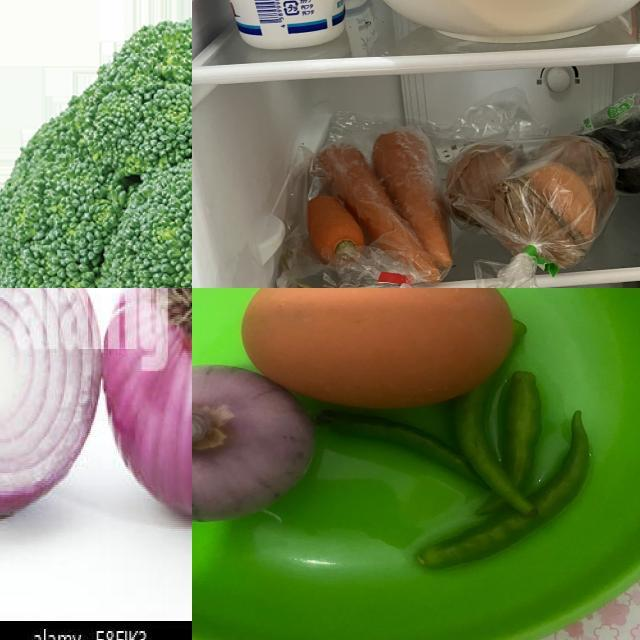carrot: (318, 141, 445, 284), (370, 129, 458, 273), (303, 194, 369, 274)
egg: (239, 289, 519, 412)
eggplant: (588, 121, 640, 197)
onion: (1, 289, 101, 518), (100, 289, 193, 527), (500, 161, 598, 269), (444, 141, 534, 233), (530, 135, 619, 222)
